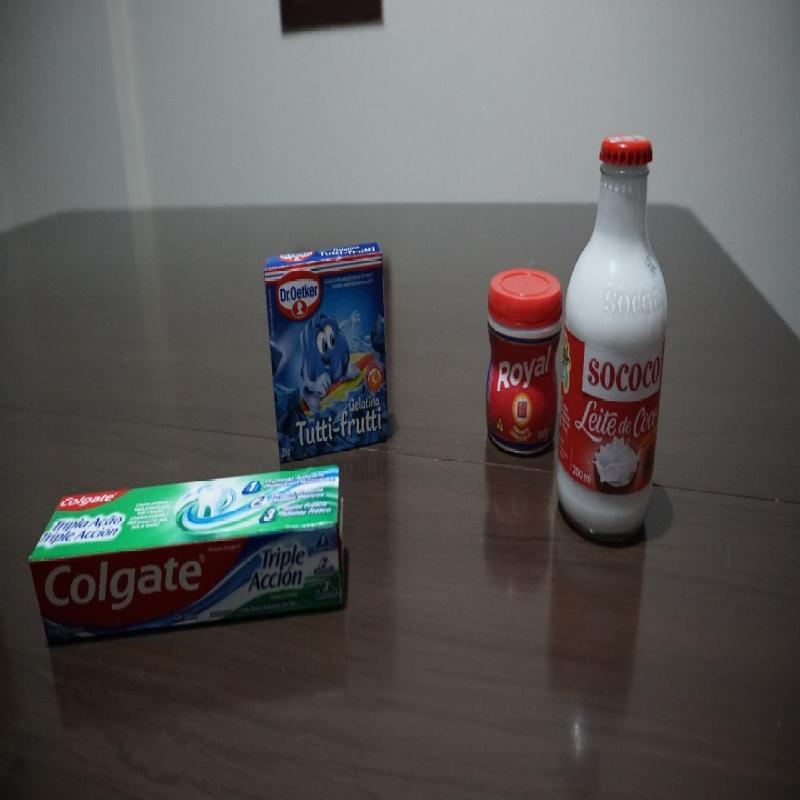Coconut Milk: (562, 137, 670, 555)
Gelatine: (264, 256, 392, 454)
Toothpaste: (27, 463, 352, 625)
Yeast: (488, 269, 566, 462)
